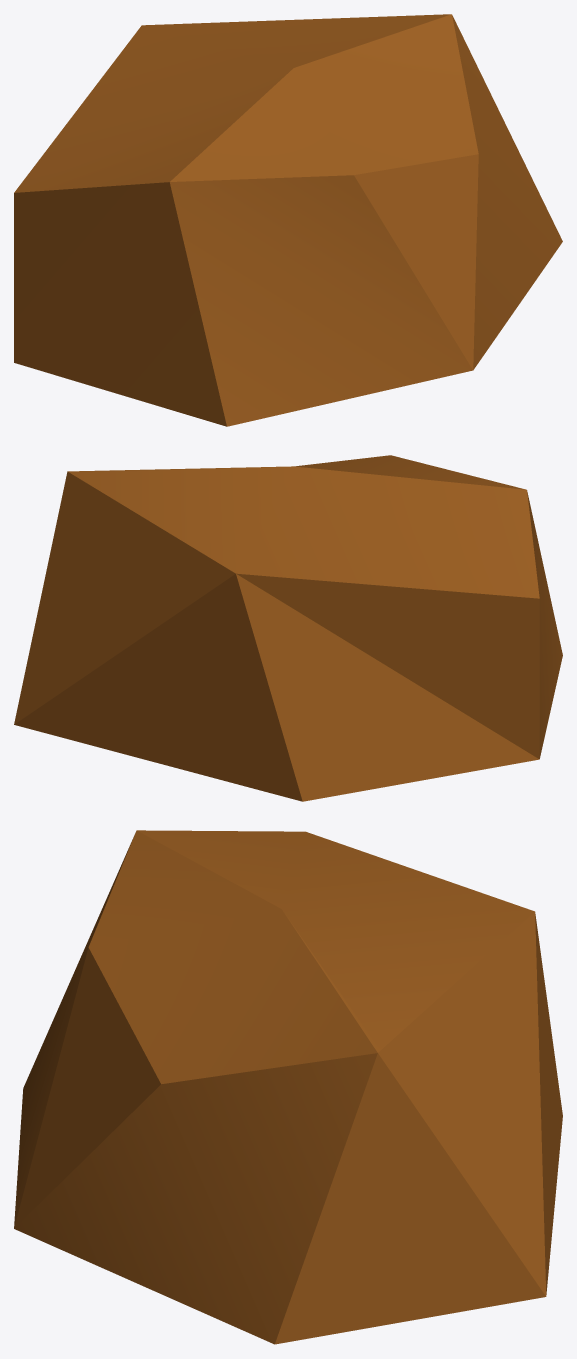
The model's file is Rock_Small_Dirt_03.fbx.
The picture shows the model from 3 angles, top to bottom: view 1: azimuth 30°, elevation 25°; view 2: azimuth 150°, elevation 25°; view 3: azimuth 270°, elevation 25°; orthographic projection. The views are drawn at different scales.
Visible parts, largest first — view 1: Rock_Small_Dirt_03; view 2: Rock_Small_Dirt_03; view 3: Rock_Small_Dirt_03.
Part boxes in pixels (box(x1,y1,x2,y2)): Rock_Small_Dirt_03: box(14, 14, 562, 426); Rock_Small_Dirt_03: box(14, 455, 562, 801); Rock_Small_Dirt_03: box(14, 830, 562, 1344).
Size of the model in its own units: 37.47 by 19.79 by 27.96.
